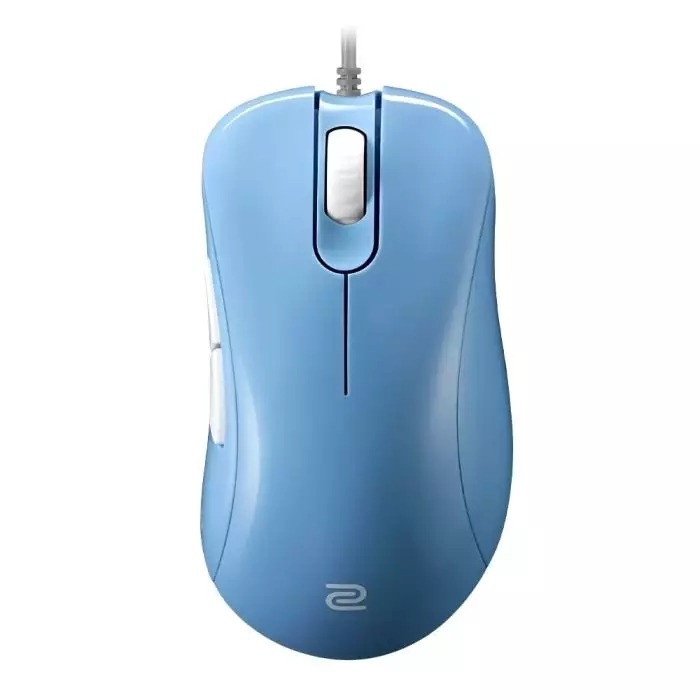mouse: (175, 69, 522, 665)
